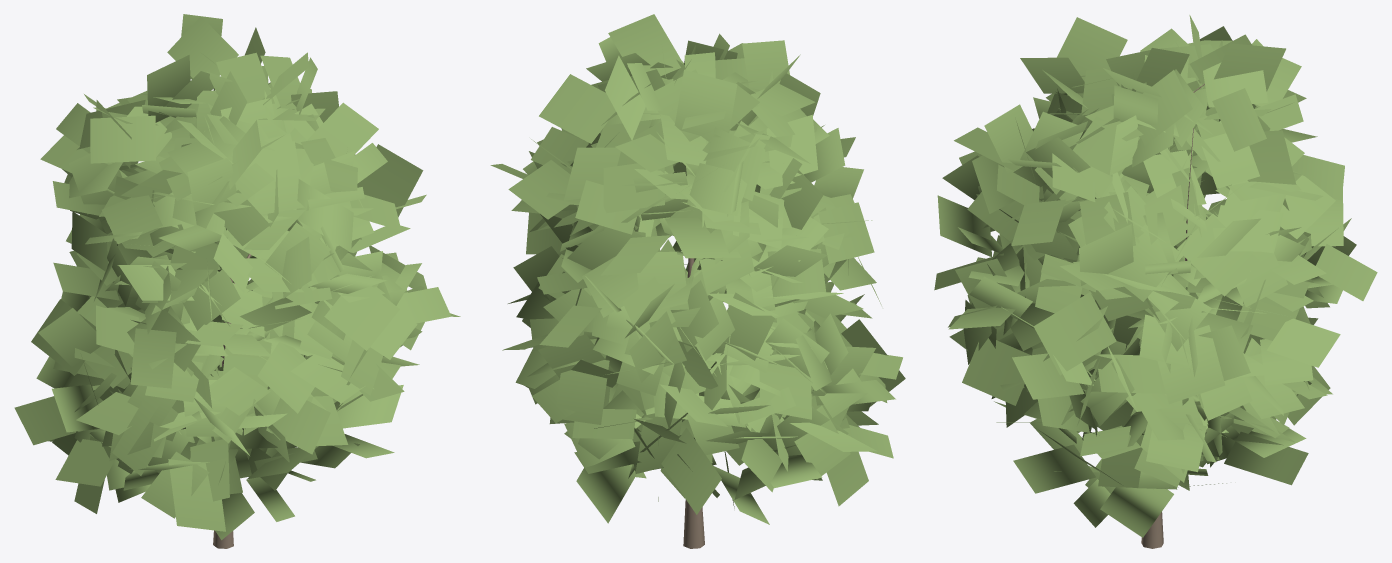
File: Broadleaf_12_young_lod1.glb
The picture shows the model from 3 angles, left to right: view 1: azimuth 30°, elevation 25°; view 2: azimuth 150°, elevation 25°; view 3: azimuth 270°, elevation 25°; orthographic projection. The views are drawn at different scales.
Visible parts, largest first — view 1: Broadleaf_12_young_lod1; view 2: Broadleaf_12_young_lod1; view 3: Broadleaf_12_young_lod1.
Boxes of the visible parts, x1,y1,x2,y2 form: Broadleaf_12_young_lod1: (14,14,460,548); Broadleaf_12_young_lod1: (490,14,905,548); Broadleaf_12_young_lod1: (934,15,1377,548).
Size of the model in its own units: 5.09 by 6.54 by 5.04.
